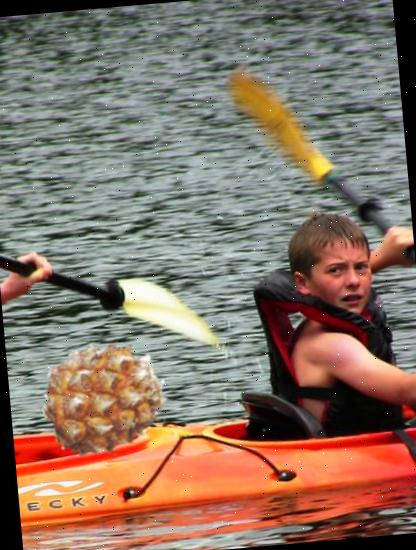Pineapple: (37, 332, 172, 466)
